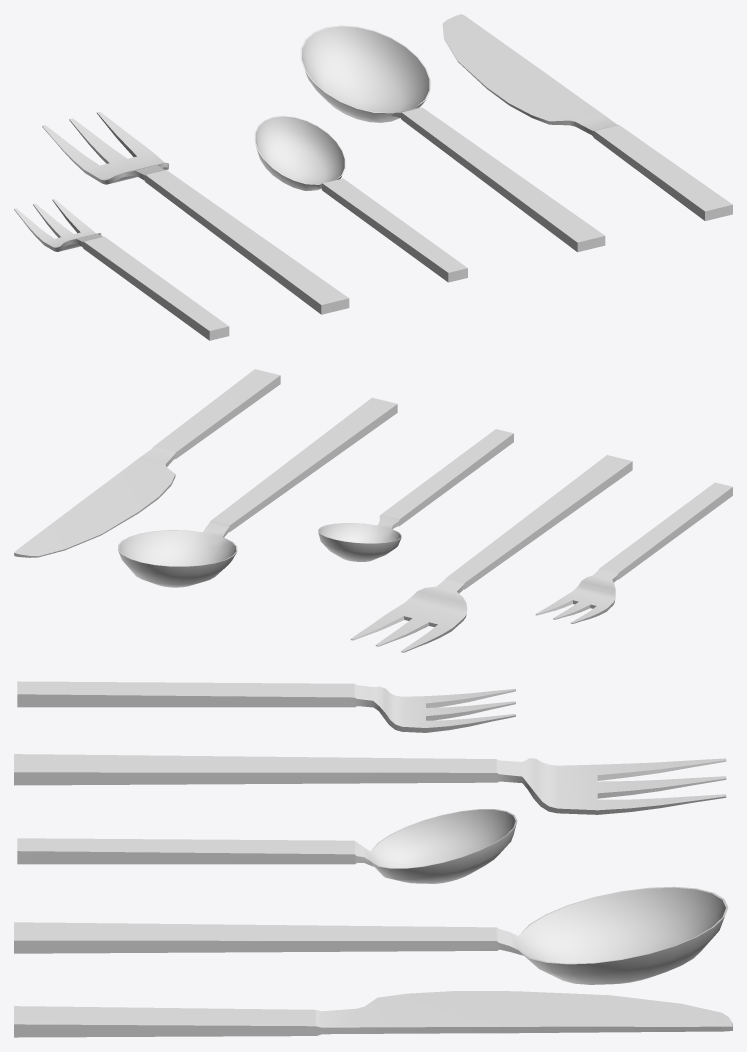
File: silverware.fbx
3 renders of one model, top to bottom at view 1: azimuth 30°, elevation 25°; view 2: azimuth 150°, elevation 25°; view 3: azimuth 270°, elevation 25°, orthographic. The views are drawn at different scales.
Parts seen in each view (by area): view 1: spoon_Metal_Straight, dinnerknife_Metal_Straight, fork_Metal_Straight, spoon_Metal_Straight_Small, fork_Metal_Straight_Small; view 2: spoon_Metal_Straight, dinnerknife_Metal_Straight, fork_Metal_Straight, spoon_Metal_Straight_Small, fork_Metal_Straight_Small; view 3: spoon_Metal_Straight, dinnerknife_Metal_Straight, fork_Metal_Straight, spoon_Metal_Straight_Small, fork_Metal_Straight_Small.
Boxes of the visible parts, <box> form: spoon_Metal_Straight: <box>300,25,605,252</box>; dinnerknife_Metal_Straight: <box>442,14,732,220</box>; fork_Metal_Straight: <box>42,111,349,314</box>; spoon_Metal_Straight_Small: <box>254,115,467,282</box>; fork_Metal_Straight_Small: <box>14,199,229,340</box>; spoon_Metal_Straight: <box>118,397,397,587</box>; dinnerknife_Metal_Straight: <box>14,369,280,557</box>; fork_Metal_Straight: <box>350,455,632,652</box>; spoon_Metal_Straight_Small: <box>318,429,513,561</box>; fork_Metal_Straight_Small: <box>535,482,732,623</box>; spoon_Metal_Straight: <box>14,886,728,984</box>; dinnerknife_Metal_Straight: <box>14,991,732,1037</box>; fork_Metal_Straight: <box>14,754,726,814</box>; spoon_Metal_Straight_Small: <box>17,809,517,883</box>; fork_Metal_Straight_Small: <box>17,681,515,732</box>.
Bounding box in the file's own units: 2.31 × 1.99 × 0.2103.
